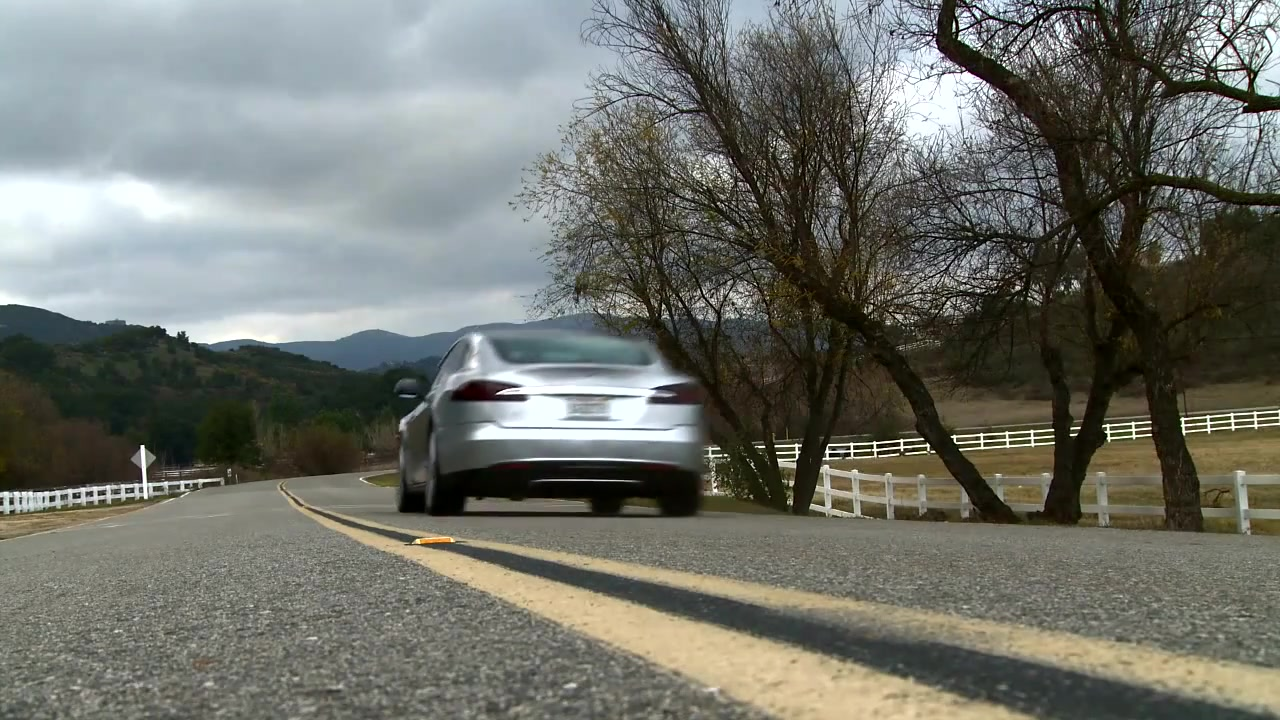car: (396, 325, 711, 520)
